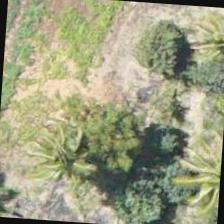Kelapa_Sawit: (1, 106, 97, 202), (176, 4, 223, 88)
